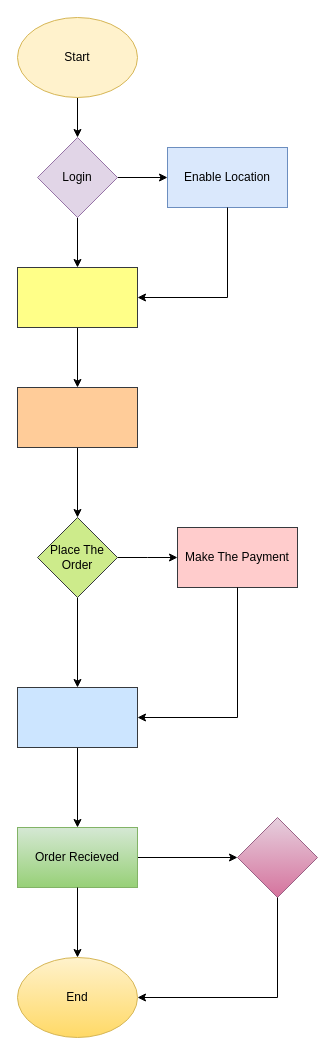
Some shapes in this 335 by 1055 pixel diagram are drawn without their labels. The shapes that lost their labels are listed below. From the top down, each one's centre as x and y in pixels, then its label:
At point 77,297: "Choose The Resturant".
At point 77,417: "Select the food".
At point 77,717: "Order Placed".
At point 277,857: "Review and Ratings".
